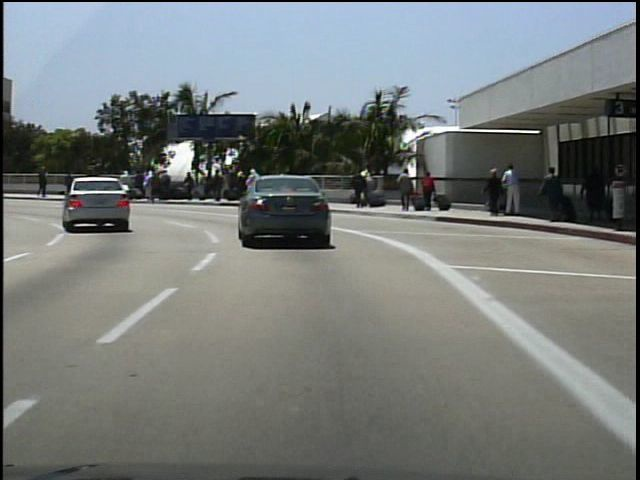person: (578, 162, 605, 225), (540, 166, 567, 226), (483, 167, 505, 222), (504, 162, 525, 218), (396, 168, 417, 214), (351, 169, 370, 212), (421, 170, 439, 213), (34, 164, 52, 199), (83, 167, 104, 196), (66, 168, 74, 198)
